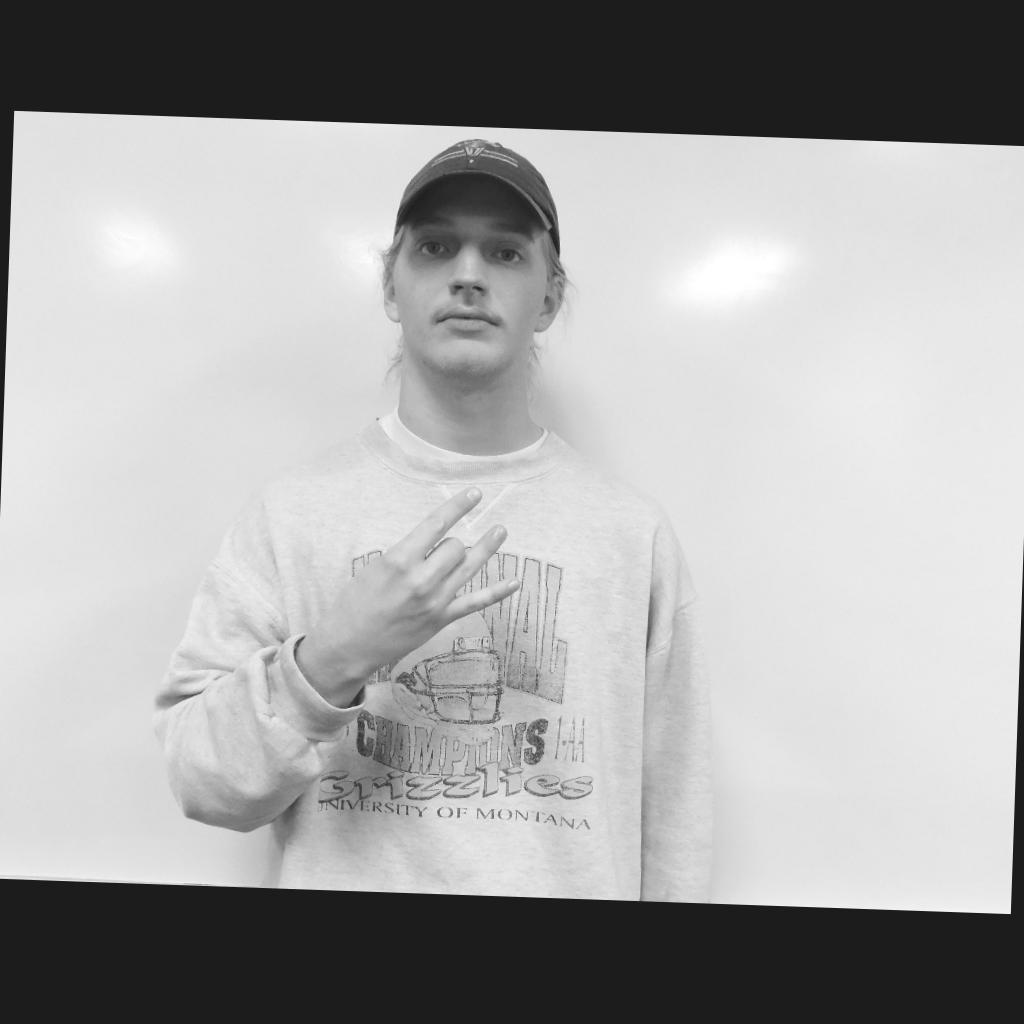like: (332, 481, 524, 657)
